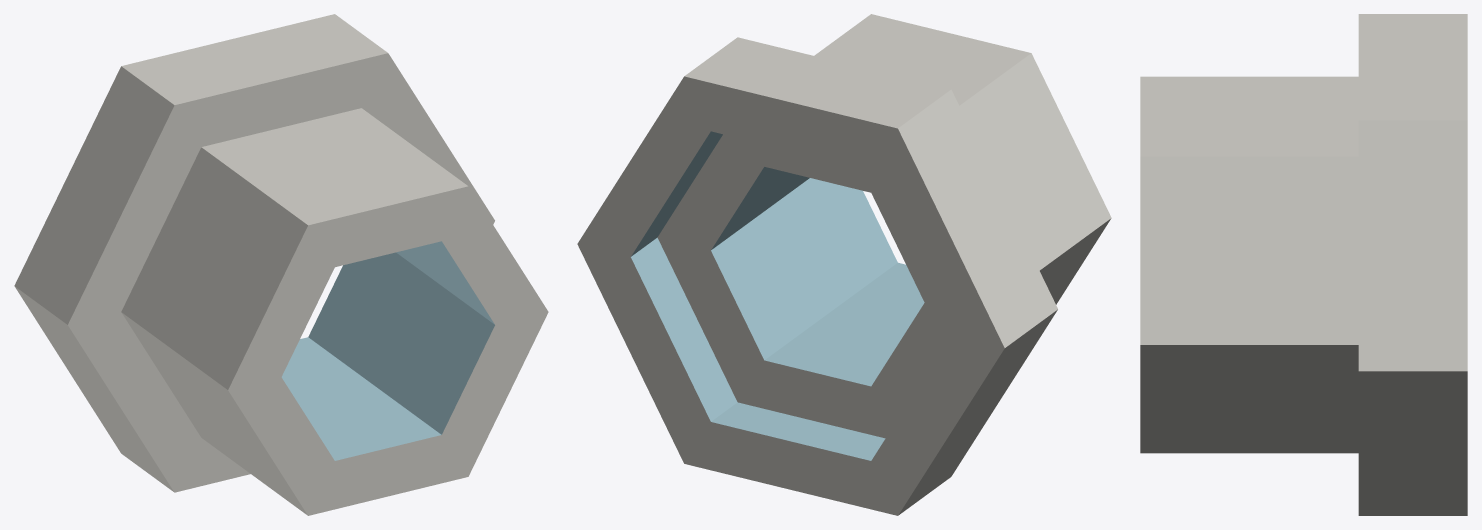
The model's file is cc0-pipe-entrance-lod0.glb.
The picture shows the model from 3 angles, left to right: view 1: azimuth 30°, elevation 25°; view 2: azimuth 150°, elevation 25°; view 3: azimuth 270°, elevation 25°; orthographic projection. The views are drawn at different scales.
Visible parts, largest first — view 1: part_0; view 2: part_0; view 3: part_0.
Boxes of the visible parts, x1,y1,x2,y2 form: part_0: (14, 14, 548, 515); part_0: (577, 14, 1111, 515); part_0: (1140, 14, 1467, 515).
Bounding box in the file's own units: 0.9238 × 0.8 × 0.6.
